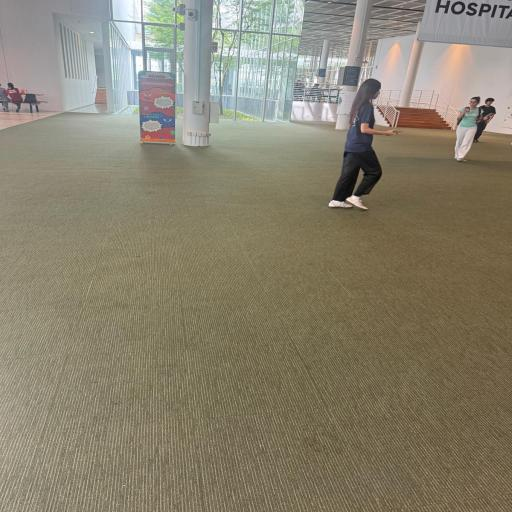person_right: (328, 78, 399, 210)
